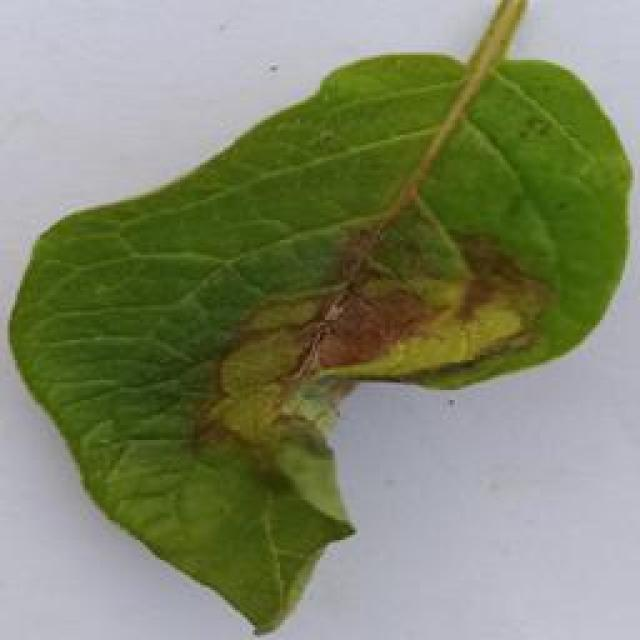Potato_Late_Blight: (10, 32, 620, 640)
